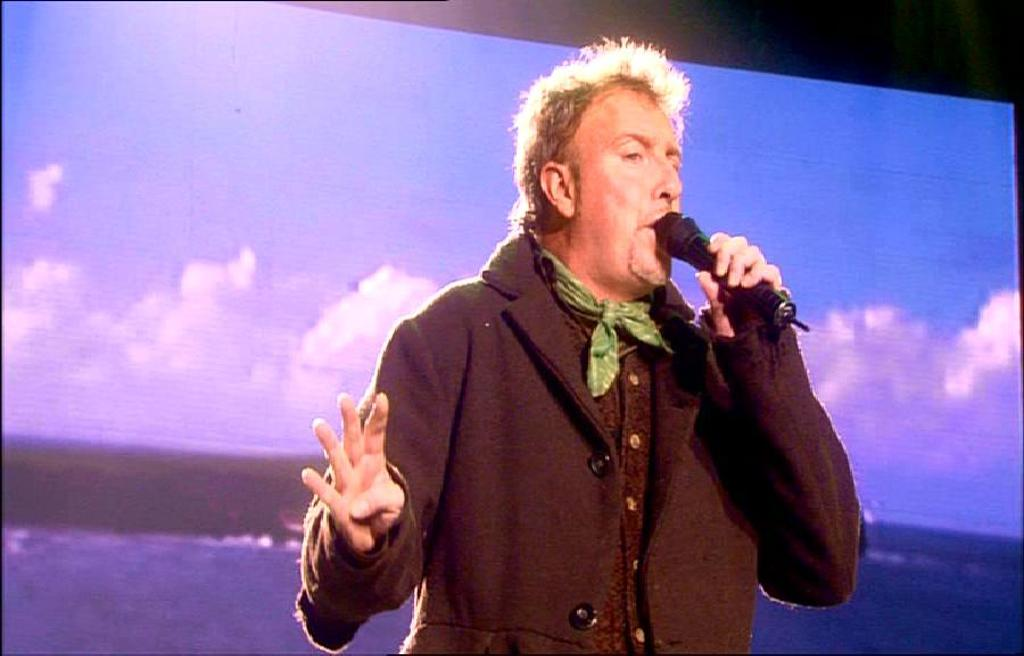face: (576, 92, 684, 284)
